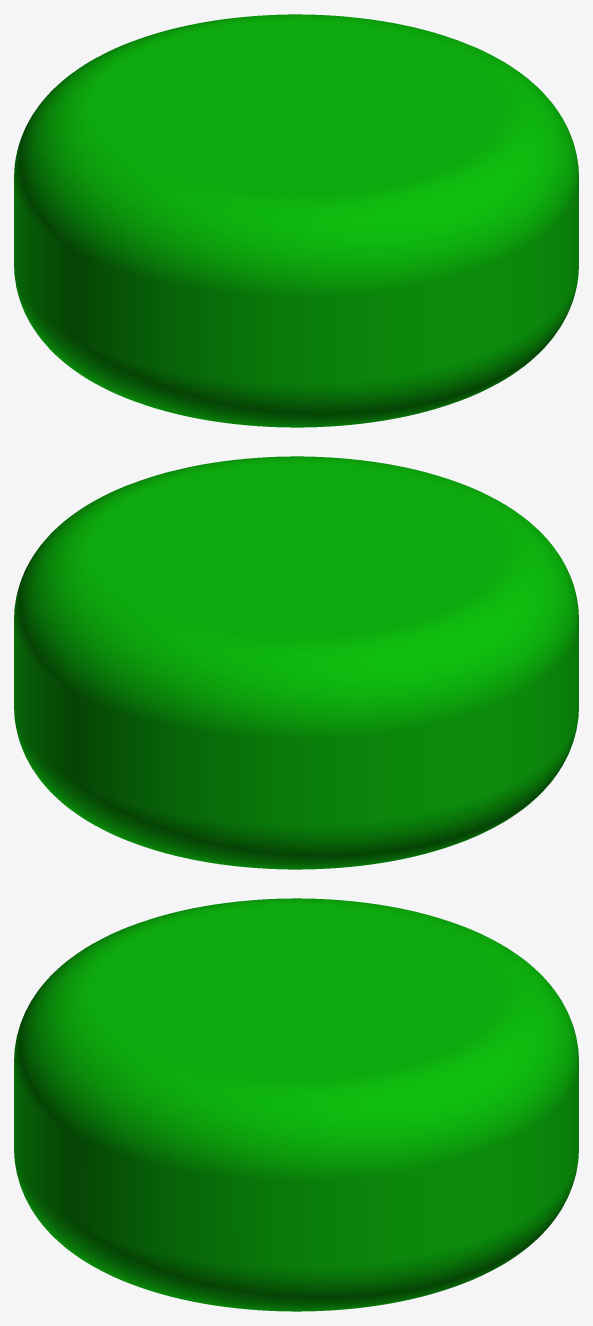
File: OUTFITTING_INTERIOR__EXT. INSTRUMENTS__AFT STBD MAST__Simrad HALO20+ Radar.glb
3 views of the same model, one above another, from view 1: azimuth 30°, elevation 25°; view 2: azimuth 150°, elevation 25°; view 3: azimuth 270°, elevation 25° (orthographic).
Visible parts, largest first — view 1: Simrad HALO20+ Radar; view 2: Simrad HALO20+ Radar; view 3: Simrad HALO20+ Radar.
Boxes of the visible parts, x1,y1,x2,y2 form: Simrad HALO20+ Radar: (14,14,578,427); Simrad HALO20+ Radar: (14,456,578,869); Simrad HALO20+ Radar: (14,898,578,1311).
Bounding box in the file's own units: 0.51 × 0.2235 × 0.5099.
